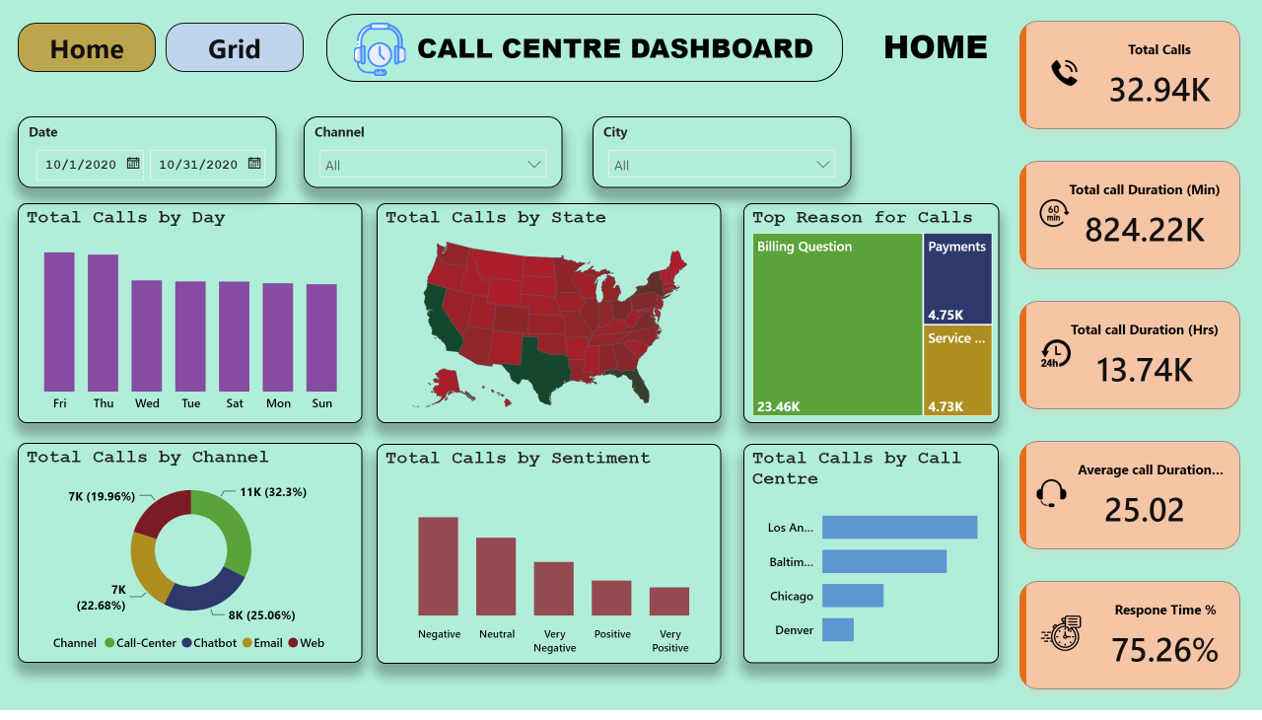

The page's visual inventory and layout, read from the dashboard file:
{"tool":"powerbi","page":{"name":"Home","canvas":[1280,720],"ordinal":0},"visuals":[{"type":"cardVisual","fields":{"Data":["Call Center_Call Center.Total Calls","Call Center_Call Center.Total call Duration in Min","Call Center_Call Center.Total call Duration in Hrs","Call Center_Call Center.Average call Duration in Min","Call Center_Call Center.Respone Time %"]},"box":[1013.1,0,266.5,720],"z":0},{"type":"textbox","box":[331.2,13.8,523.8,68.8],"z":1000},{"type":"columnChart","fields":{"Y":["Call Center_Call Center.Total Calls"],"Category":["Date Table.Day"]},"box":[18.1,206.2,349.7,223.1],"z":2000},{"type":"shapeMap","fields":{"Category":["Call Center_Call Center.State"],"Value":["Call Center_Call Center.Total Calls"]},"box":[382.3,206.2,349.7,223.1],"z":3000},{"type":"columnChart","fields":{"Y":["Call Center_Call Center.Total Calls"],"Category":["Call Center_Call Center.Sentiment"]},"box":[382.3,449.8,349.7,223.1],"z":4000},{"type":"treemap","title":"Top Reason for Calls","fields":{"Group":["Call Center_Call Center.Reason"],"Values":["Call Center_Call Center.Total Calls"]},"box":[753.8,206.2,259.3,223.1],"z":5000},{"type":"barChart","fields":{"Y":["Call Center_Call Center.Total Calls"],"Category":["Call Center_Call Center.Call-Centres City"]},"box":[753.8,450,258.8,222.5],"z":6000},{"type":"donutChart","fields":{"Y":["Call Center_Call Center.Total Calls"],"Category":["Call Center_Call Center.Channel"]},"box":[18.1,448.6,349.7,223.1],"z":7000},{"type":"textbox","box":[885.2,19.3,127.8,62.7],"z":8000},{"type":"pageNavigator","box":[17.5,22.5,290,50],"z":9000},{"type":"slicer","title":"Date","fields":{"Values":["Date Table.Date"]},"box":[17.5,117.5,262.5,72.5],"z":10000},{"type":"slicer","title":"Channel","fields":{"Values":["Call Center_Call Center.Channel"]},"box":[307.5,117.5,262.5,72.5],"z":11000},{"type":"slicer","title":"City","fields":{"Values":["Call Center_Call Center.City"]},"box":[601.2,117.5,262.5,72.5],"z":12000},{"type":"image","box":[353.8,17.5,62.5,63.8],"z":13000}]}

Visuals, with their boxes in screenshot pixels (x1, y1, x2, y2), scaled from the page's 1280x720 canvas onto the 1262x720 screenshot:
cardVisual - Call Center_Call Center.Total Calls x Call Center_Call Center.Total call Duration in Min: box(999, 0, 1261, 719)
textbox: box(327, 14, 843, 83)
columnChart - Call Center_Call Center.Total Calls x Date Table.Day: box(18, 206, 363, 429)
shapeMap - Call Center_Call Center.State x Call Center_Call Center.Total Calls: box(377, 206, 722, 429)
columnChart - Call Center_Call Center.Total Calls x Call Center_Call Center.Sentiment: box(377, 450, 722, 673)
"Top Reason for Calls" treemap: box(743, 206, 999, 429)
barChart - Call Center_Call Center.Total Calls x Call Center_Call Center.Call-Centres City: box(743, 450, 998, 672)
donutChart - Call Center_Call Center.Total Calls x Call Center_Call Center.Channel: box(18, 449, 363, 672)
textbox: box(873, 19, 999, 82)
pageNavigator: box(17, 22, 303, 72)
"Date" slicer: box(17, 118, 276, 190)
"Channel" slicer: box(303, 118, 562, 190)
"City" slicer: box(593, 118, 852, 190)
image: box(349, 18, 410, 81)
